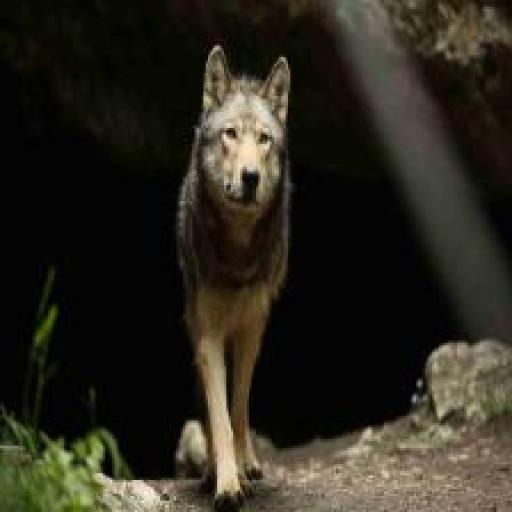wolf: (169, 39, 306, 512)
